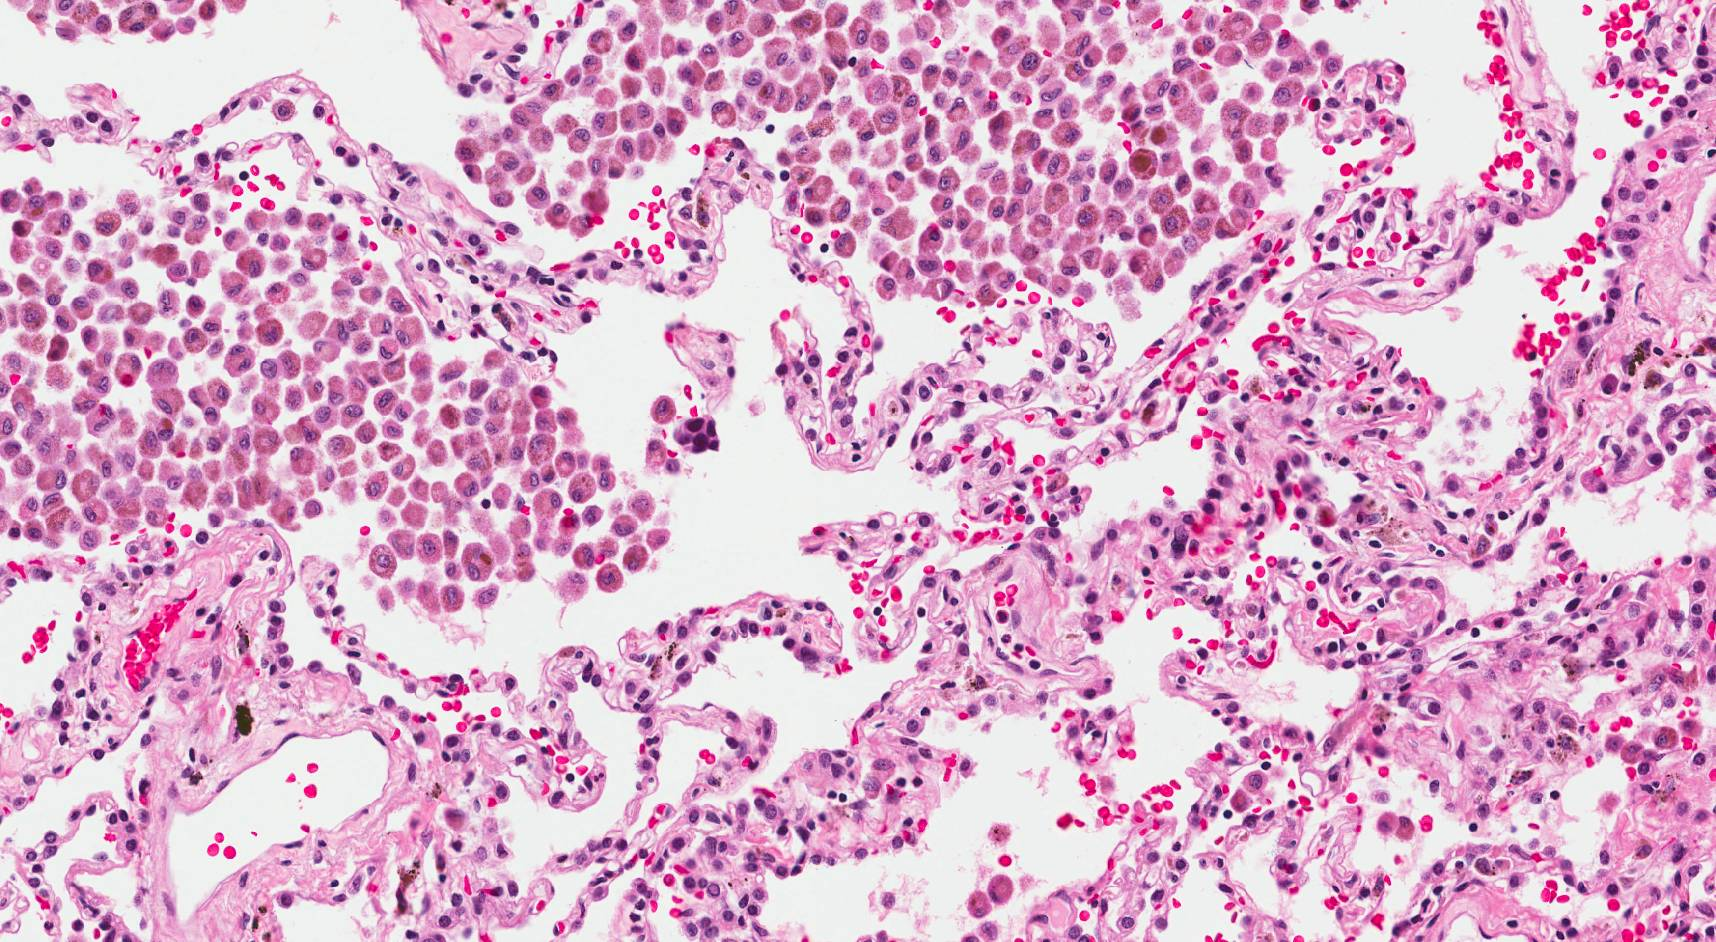stas: (675, 412, 724, 455)
